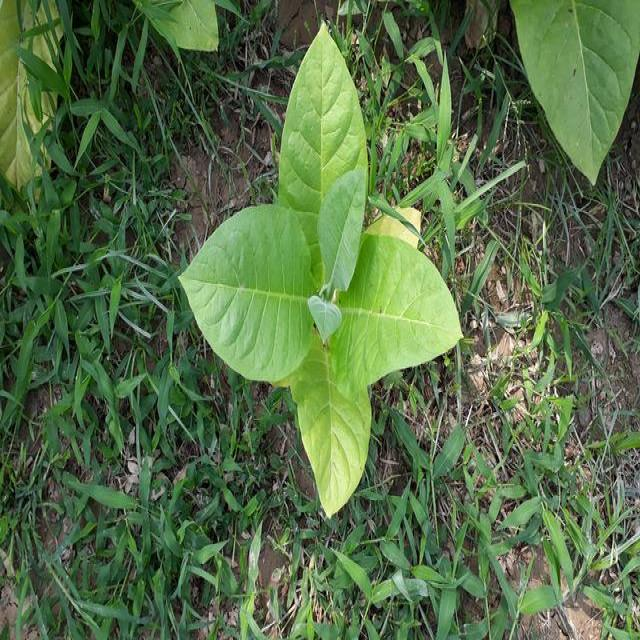crop: (168, 13, 461, 525)
